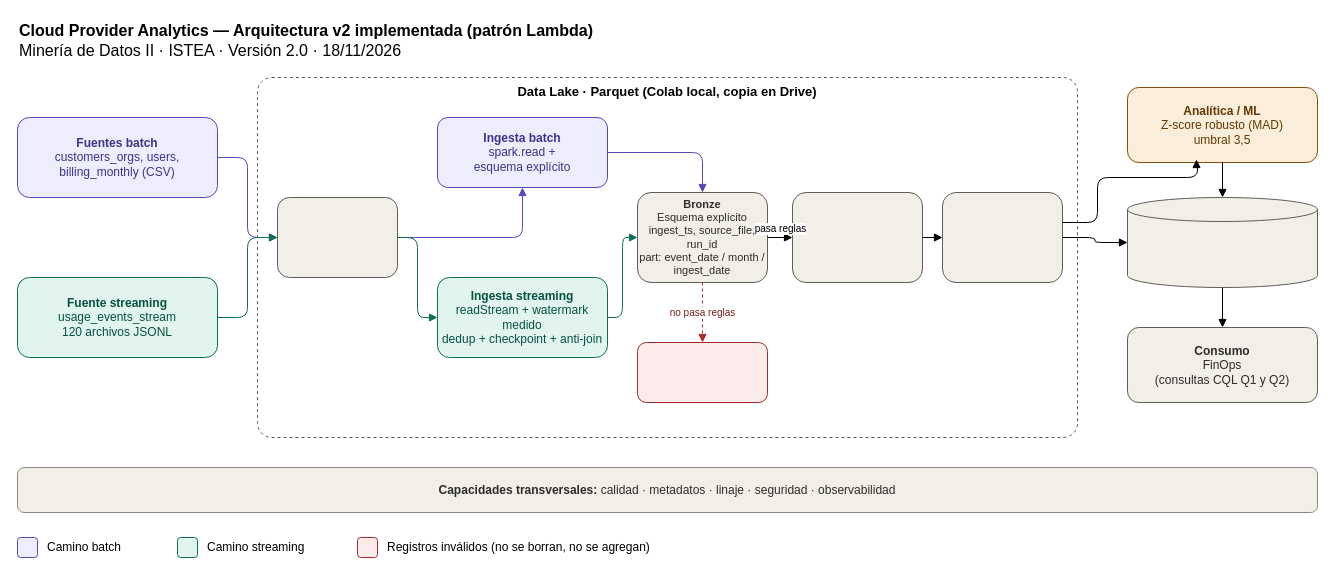
This 1335x579 diagram has some shape labels left out. The shapes that lost their labels are listed below. From the top down, each one's centre as x and y in pixels, then its label:
the point at 337,237: Landing Raw inmutable CSV / JSONL
the point at 857,237: Silver 6 reglas de calidad join clientes, FX, NPS features diarias
the point at 1002,237: Gold org_daily_usage_ by_service cost_anomaly_mart
the point at 1222,242: Cassandra / AstraDB cloud_analytics org_daily_usage_by_service
the point at 702,372: Quarantine Inválidos + dq_reason
